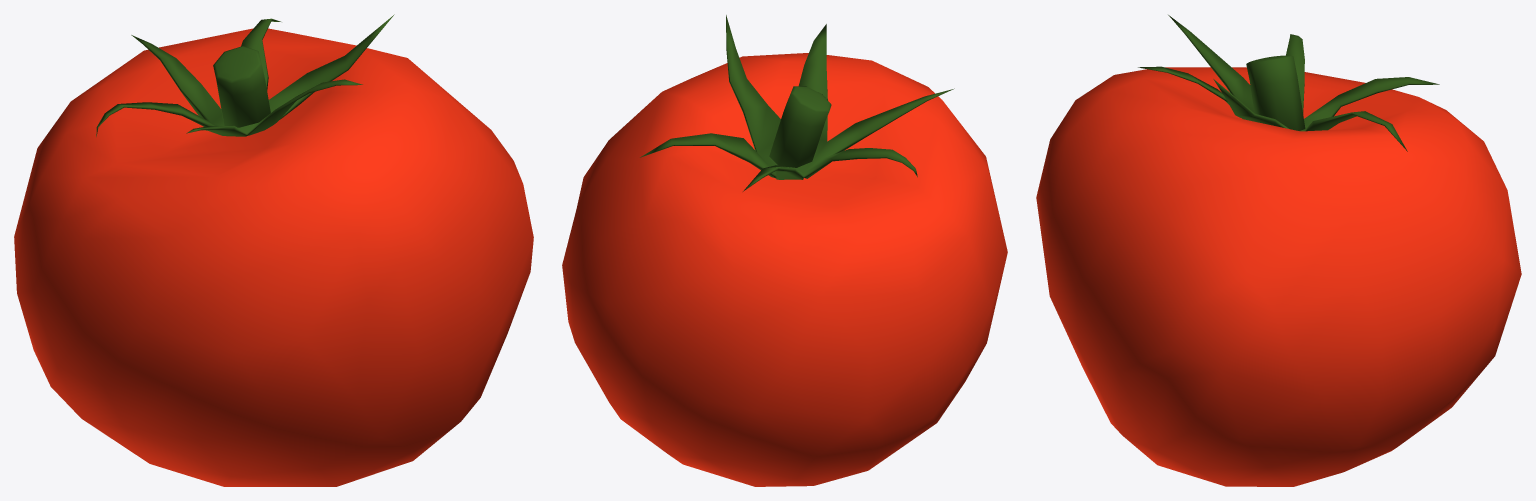
Rendered from Tomato.fbx.
3 views of the same model, side by side, from view 1: azimuth 30°, elevation 25°; view 2: azimuth 150°, elevation 25°; view 3: azimuth 270°, elevation 25° (orthographic). The views are drawn at different scales.
Parts seen in each view (by area): view 1: Tomato; view 2: Tomato; view 3: Tomato.
Part boxes in pixels (left/top/right/bottom): Tomato: left=14, top=14, right=533, bottom=486; Tomato: left=562, top=15, right=1007, bottom=486; Tomato: left=1036, top=15, right=1521, bottom=486.
Bounding box in the file's own units: 10.09 × 9.9 × 10.22.
